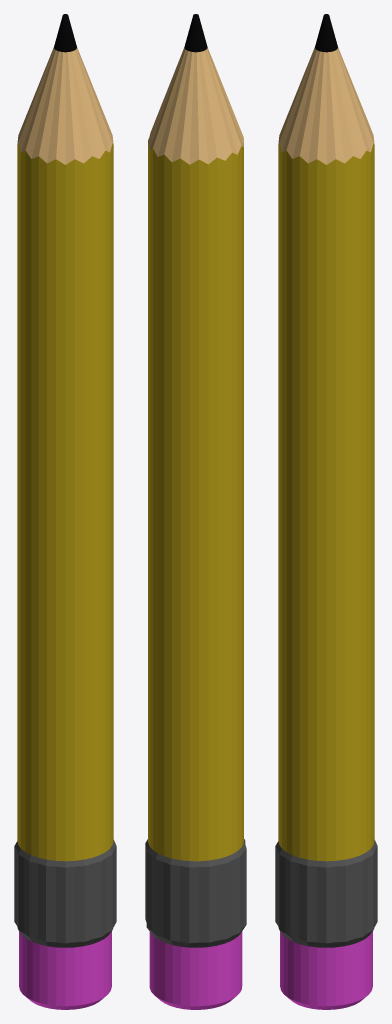
The model's file is Pencil.glb.
The picture shows the model from 3 angles, left to right: view 1: azimuth 90°, elevation 25°; view 2: azimuth 150°, elevation 25°; view 3: azimuth 270°, elevation 25°; orthographic projection.
Parts seen in each view (by area): view 1: Cylinder; view 2: Cylinder; view 3: Cylinder.
Part boxes in pixels (x1,y1,x2,y2): Cylinder: [14, 14, 116, 1009]; Cylinder: [145, 14, 246, 1009]; Cylinder: [275, 14, 377, 1009].
Bounding box in the file's own units: 0.3151 × 3.33 × 0.3151.
